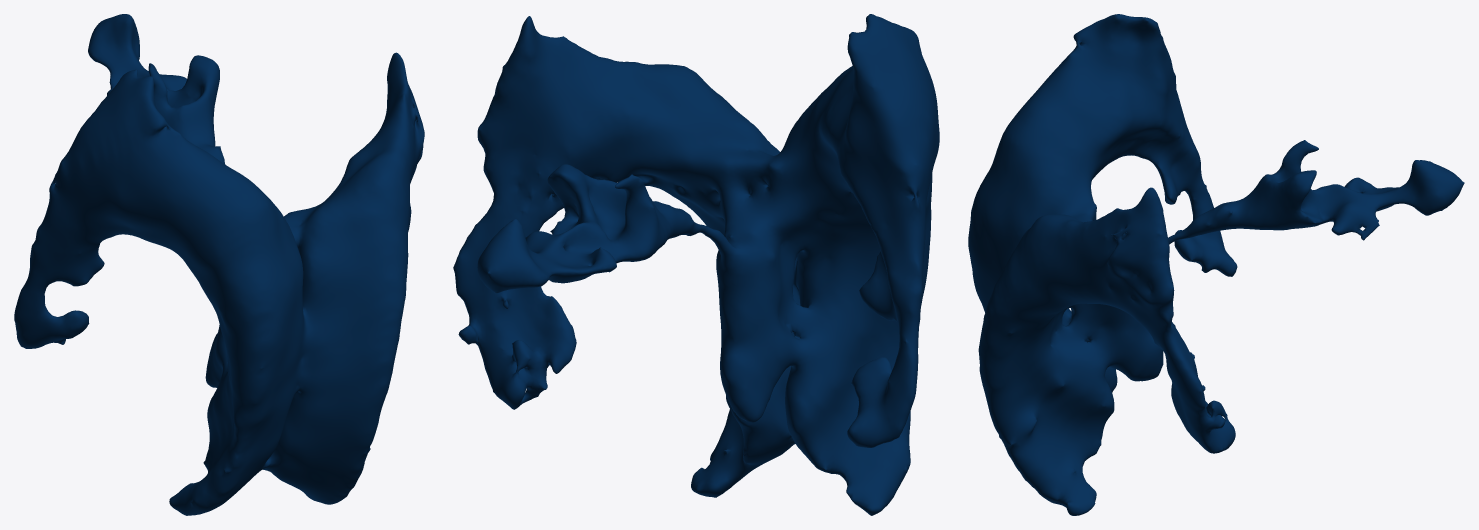
File: Ventricle.obj
3 renders of one model, left to right at view 1: azimuth 30°, elevation 25°; view 2: azimuth 150°, elevation 25°; view 3: azimuth 270°, elevation 25°, orthographic. The views are drawn at different scales.
Visible parts, largest first — view 1: grp1; view 2: grp1; view 3: grp1.
Part boxes in pixels (left/top/right/bottom): grp1: left=14, top=14, right=424, bottom=515; grp1: left=453, top=14, right=939, bottom=515; grp1: left=968, top=14, right=1464, bottom=515.
Size of the model in its own units: 86.81 by 96.39 by 102.
